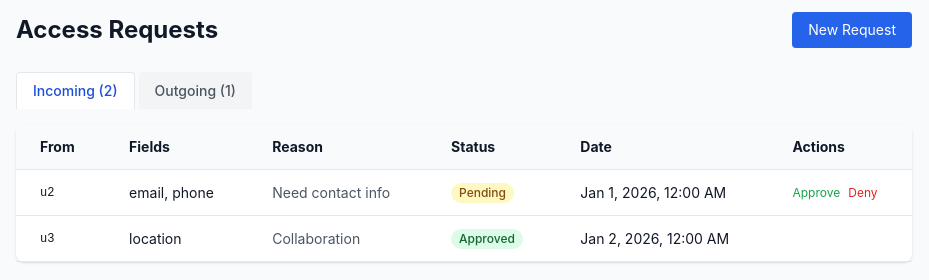
it: AccessRequestsPage › switches between incoming and outgoing tabs
Expected: the text "Need contact info" is shown, [248, 170, 427, 216]
Step 1. Click the button "Outgoing (1)" → x=195, y=90, box [139, 72, 252, 109]
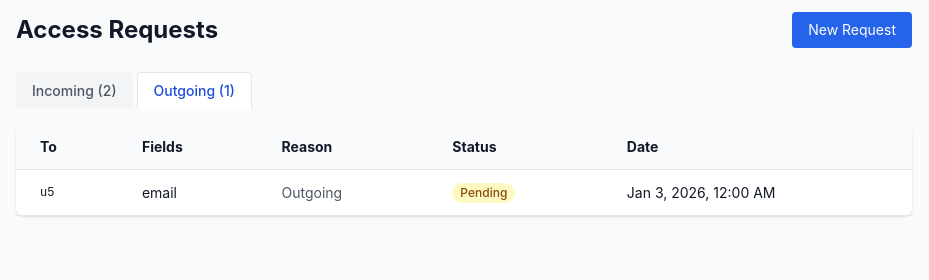
Result: the text "Outgoing" is shown at [258, 170, 428, 216]
